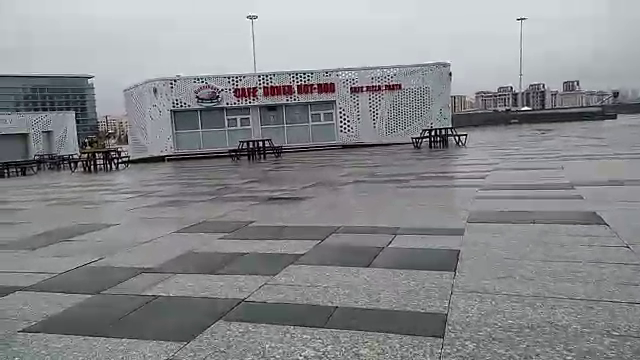kebab: (167, 69, 438, 144)
